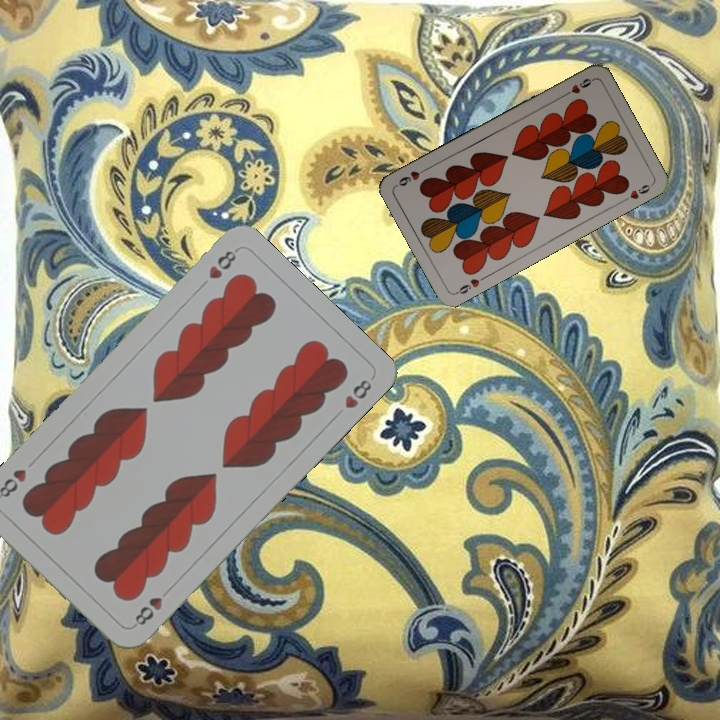H8: (204, 245, 240, 282), (131, 592, 165, 628)
H9: (559, 74, 596, 99), (452, 274, 482, 297)
